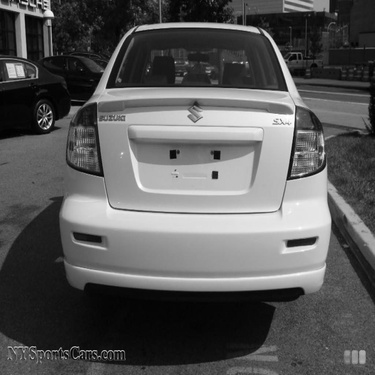car: (44, 15, 346, 309), (1, 51, 67, 145), (39, 44, 121, 112), (282, 43, 330, 79)
